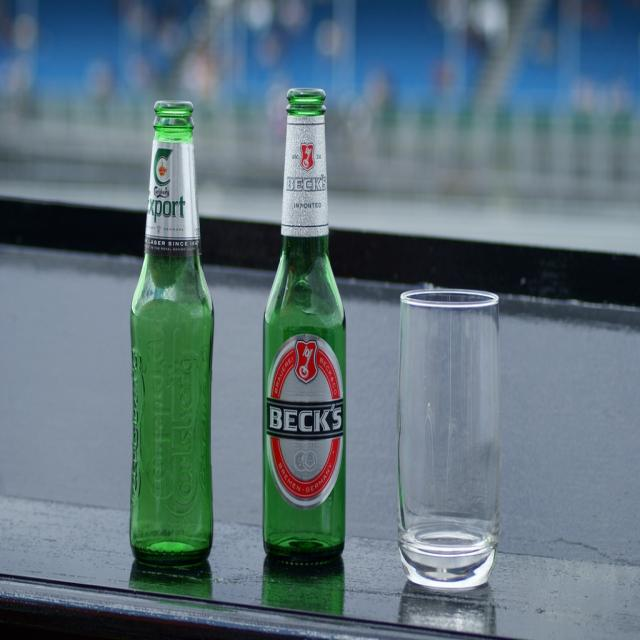becks: (267, 335, 346, 509)
